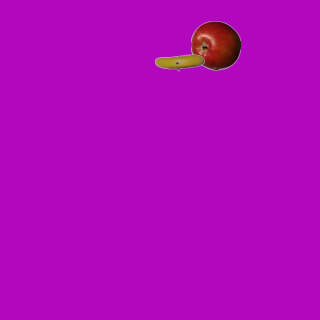Apple Braeburn: (190, 20, 240, 70)
Banana: (154, 37, 204, 87)
